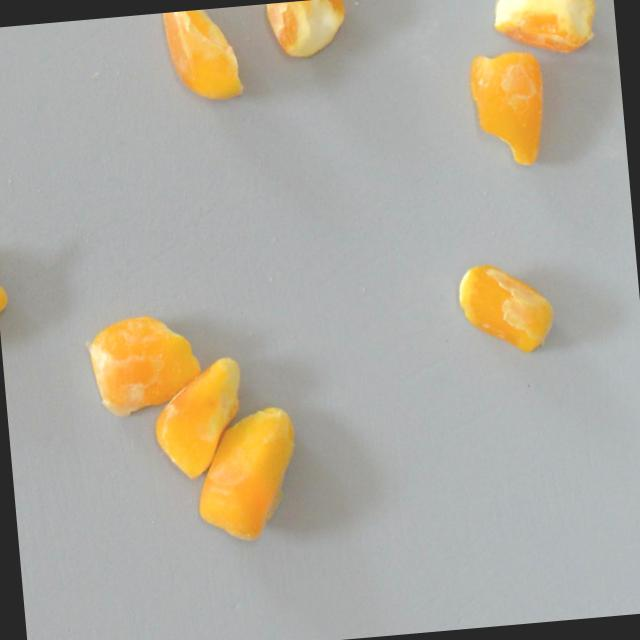pelicula: (187, 400, 307, 550), (81, 290, 207, 423), (458, 47, 568, 179), (147, 346, 257, 477), (452, 243, 561, 375), (145, 5, 253, 109), (490, 0, 604, 69), (257, 0, 362, 71), (0, 234, 17, 358)
